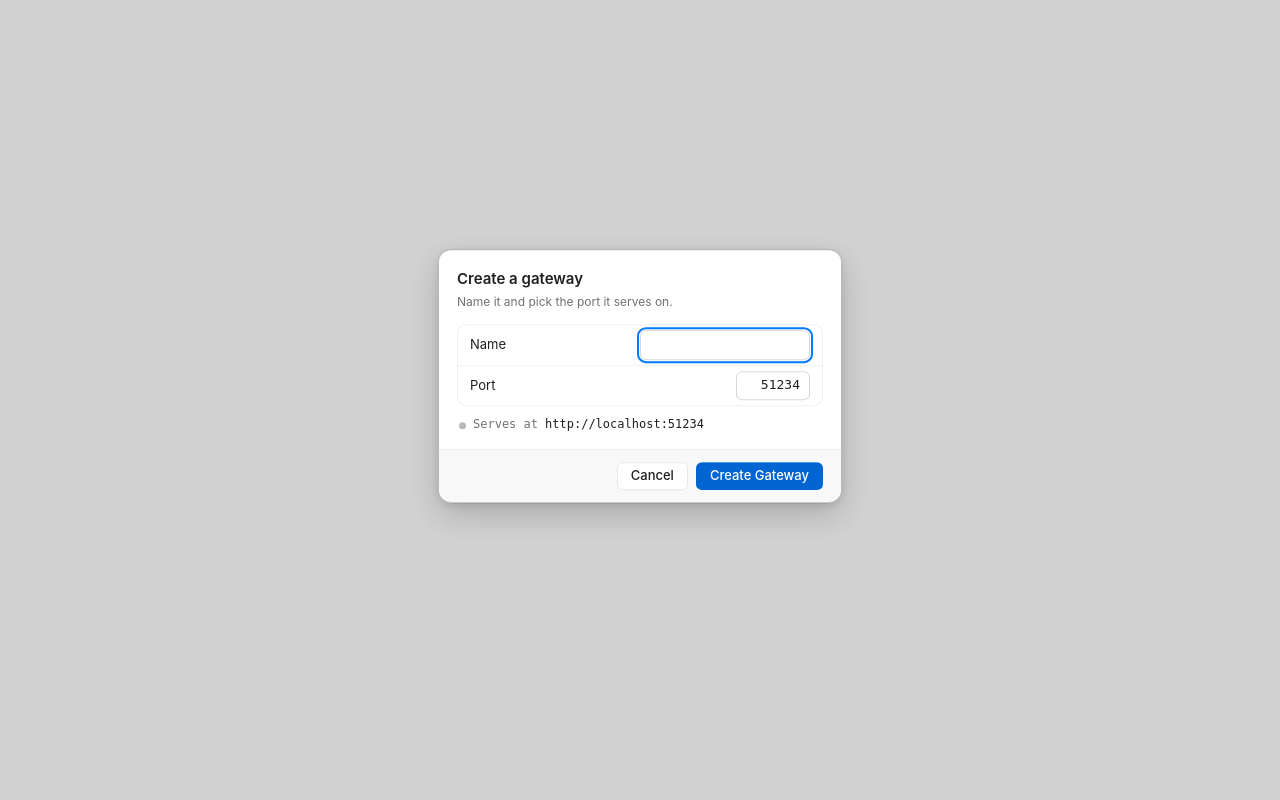
Test case: a refusal announces itself and stands under the field it concerns
Expected: the dialog "Create a gateway" is shown, [438,249,842,503]
Type "Con" into the field labelled "Name" at (725, 345), box [640,330,810,360]
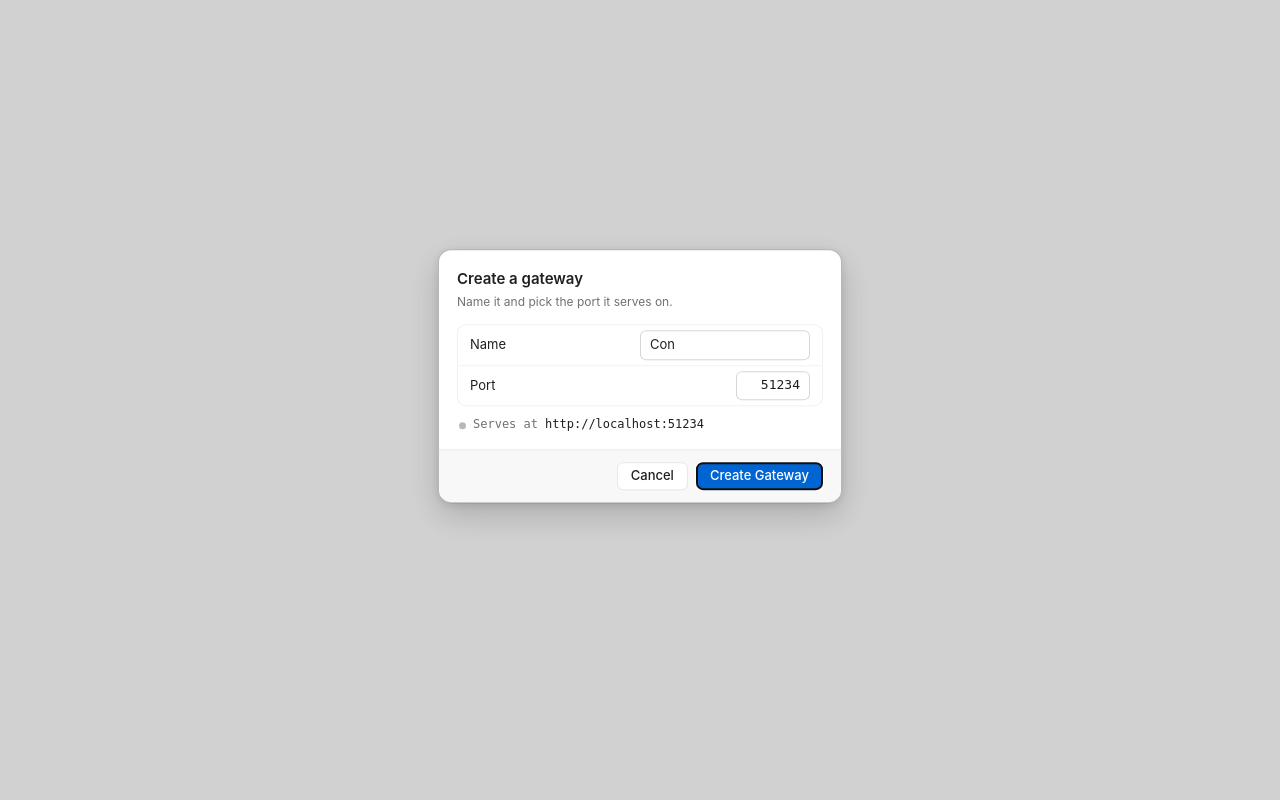
Press Enter
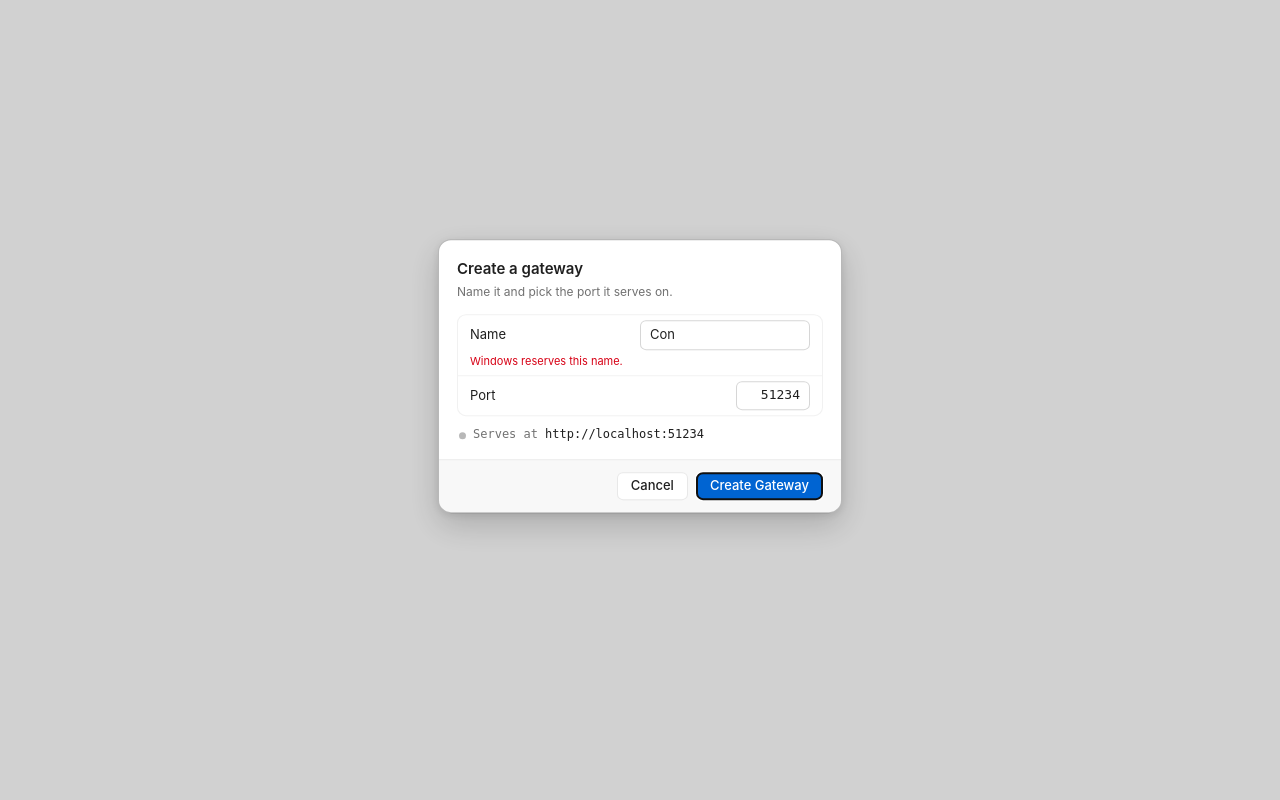
Expected: the message reads "Windows reserves this name.", [470,354,623,368]
